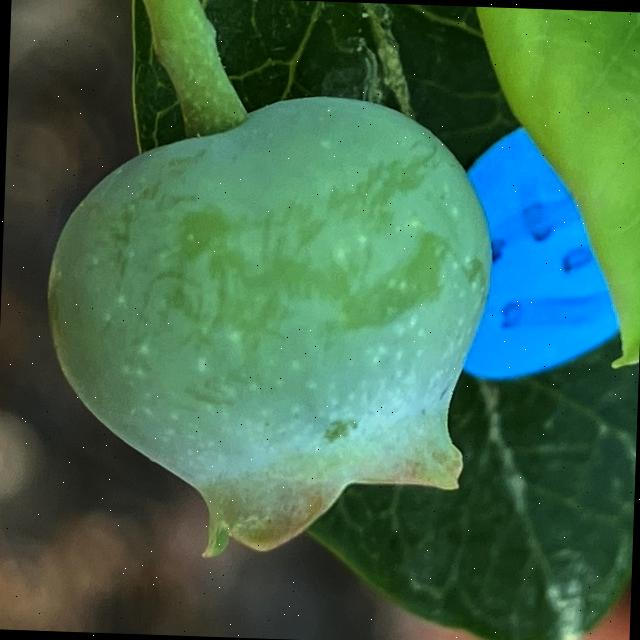Blueberries: (36, 79, 504, 559)
